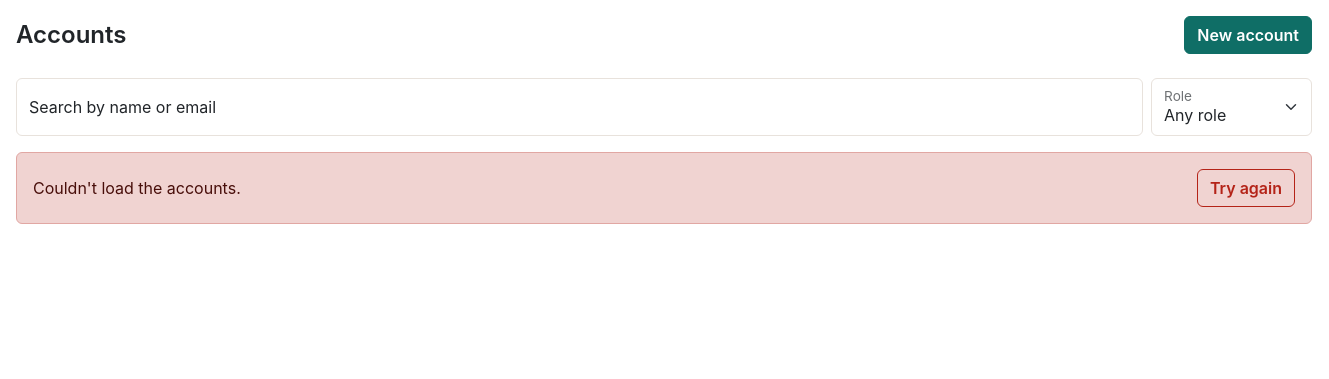
the accounts list › says when it couldn't load, with a way to try again
The width and height of the screenshot is (1329, 379).
Expected: the text "Couldn't load the accounts." is shown, [33,176,241,200]
Click the button "Try again" at (1246, 188), box [1197,169,1295,207]
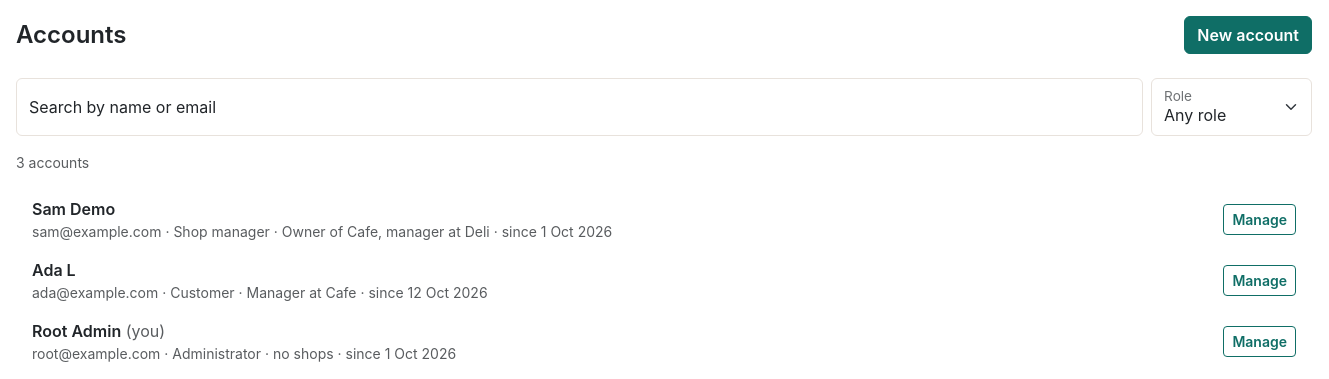
Now the text "3 accounts" is shown, box [16,154,89,171]
